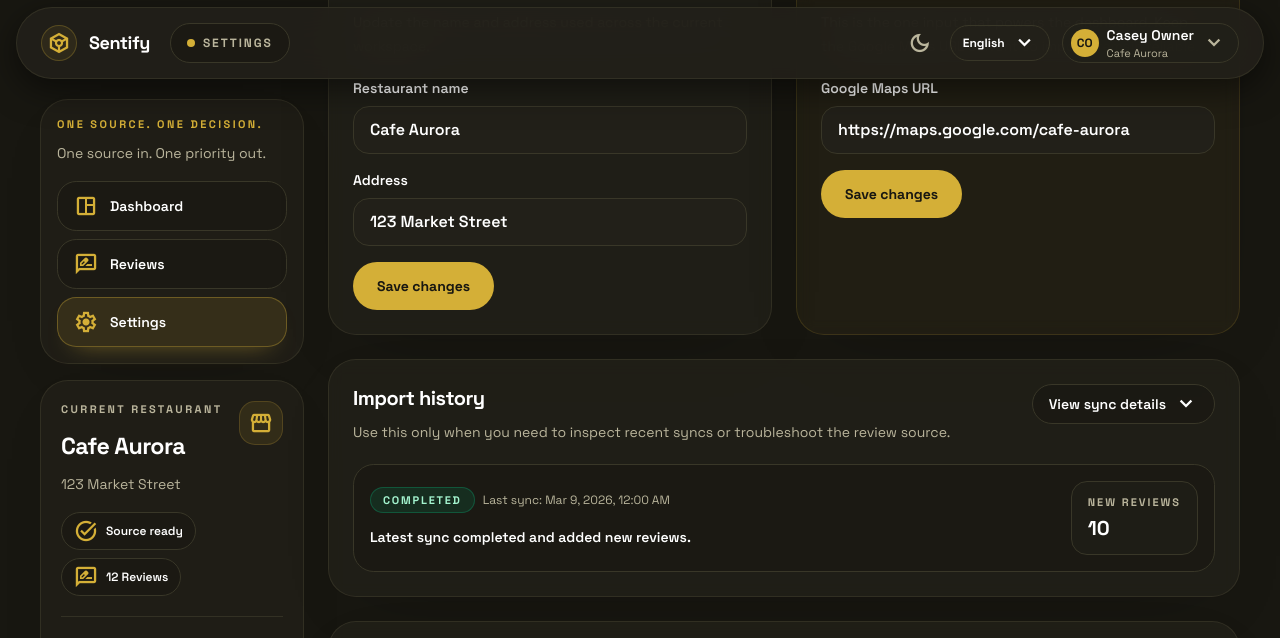
it: Sentify app shell › keeps detailed import history in settings behind a toggle
This screenshot has width=1280, height=638.
(page scrolled)
Expected: the heading "Import history" is shown, [353,385,485,411]
Click the button "View sync details".
click(1123, 404)  # box [1032,384,1215,424]
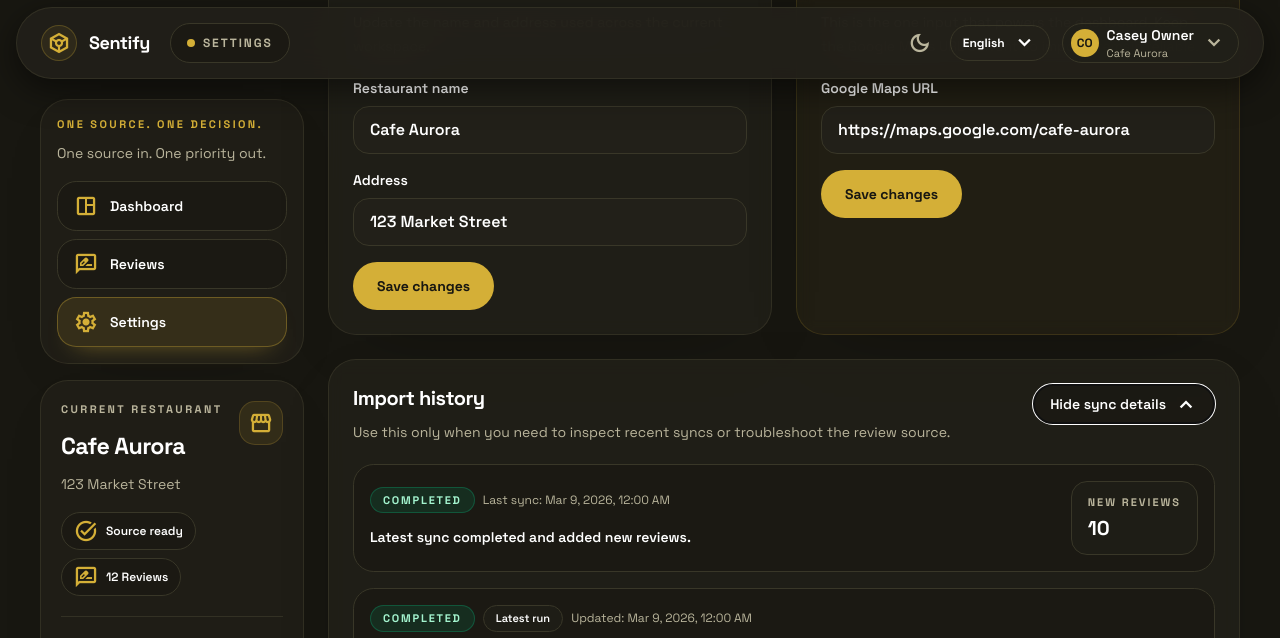
Expected: the button "Hide sync details" is shown, [1033,384,1215,424]
